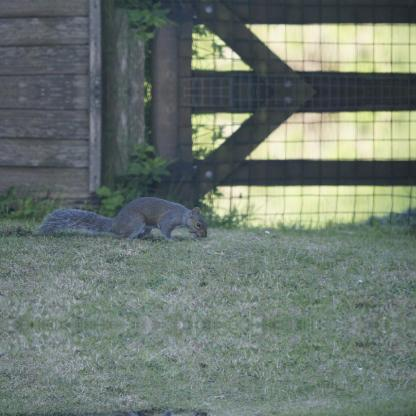Squirrel: (38, 196, 209, 238)
